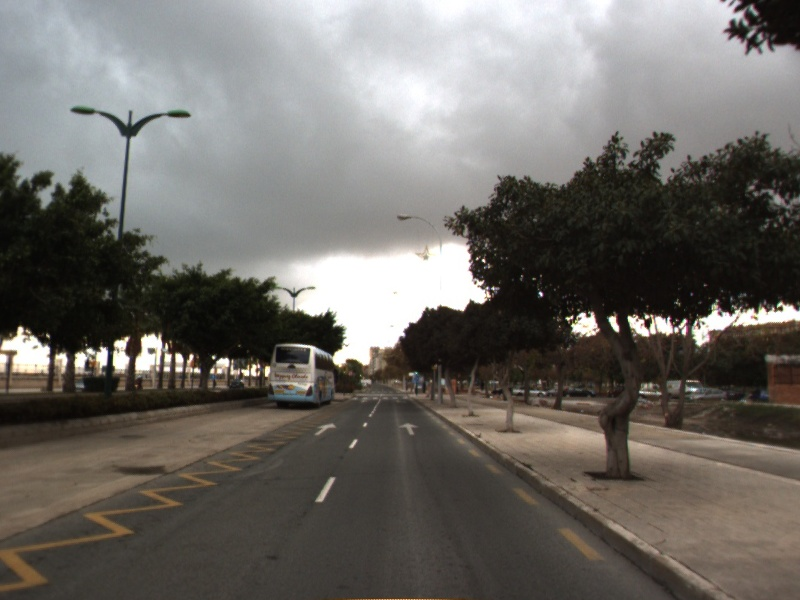STRAIGHT: (312, 421, 339, 437), (396, 421, 422, 437)
